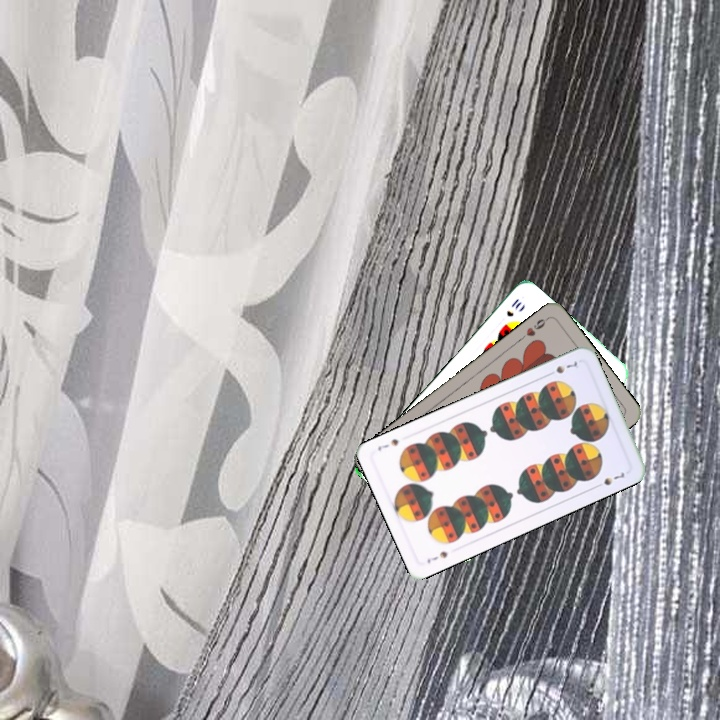H9: (516, 314, 551, 343)
S10: (502, 294, 524, 320)
S7: (543, 357, 580, 379), (423, 547, 450, 566)
